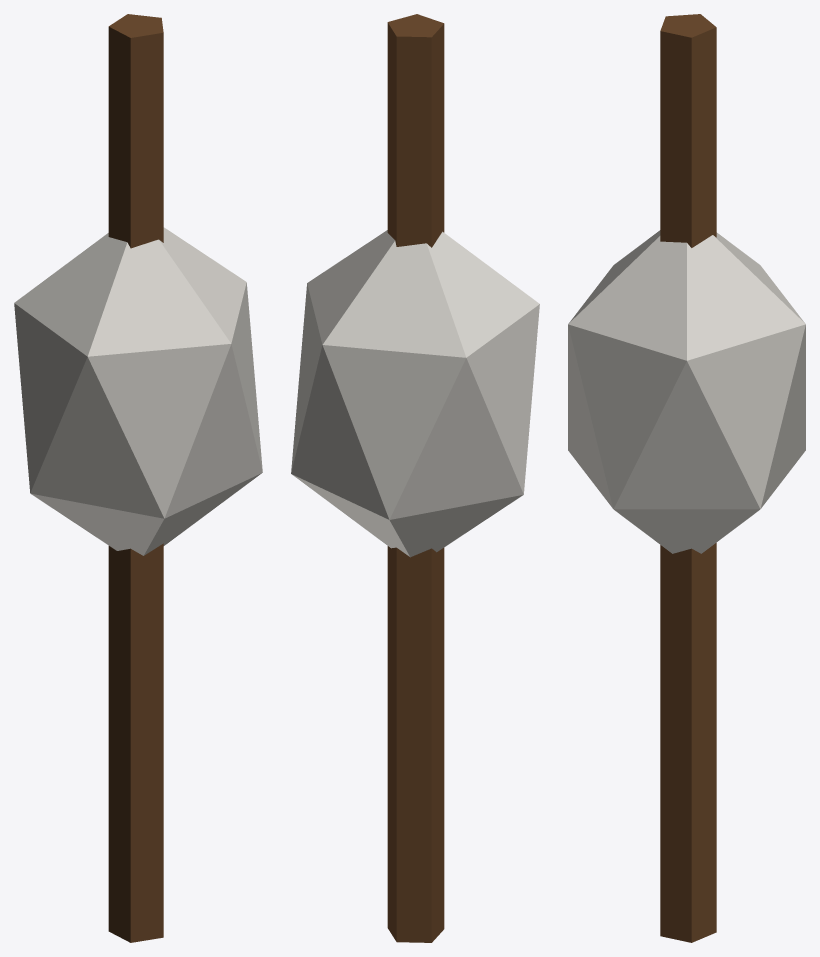
File: gear_spindle.glb
The picture shows the model from 3 angles, left to right: view 1: azimuth 30°, elevation 25°; view 2: azimuth 150°, elevation 25°; view 3: azimuth 270°, elevation 25°; orthographic projection.
Parts seen in each view (by area): view 1: gear_spindle; view 2: gear_spindle; view 3: gear_spindle.
Boxes of the visible parts, bbox=[...] form: gear_spindle: bbox=[14, 14, 262, 942]; gear_spindle: bbox=[291, 14, 539, 942]; gear_spindle: bbox=[568, 14, 805, 942].
Bounding box in the file's own units: 0.0751 × 0.3 × 0.0715.
